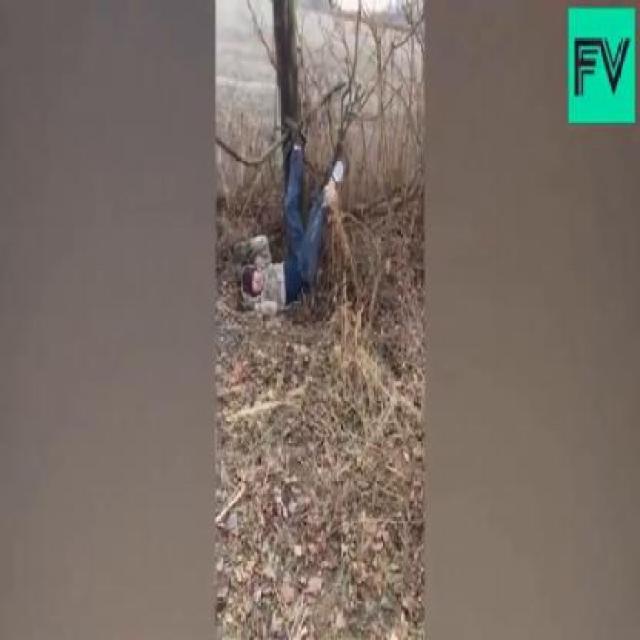fall: (242, 119, 349, 313)
